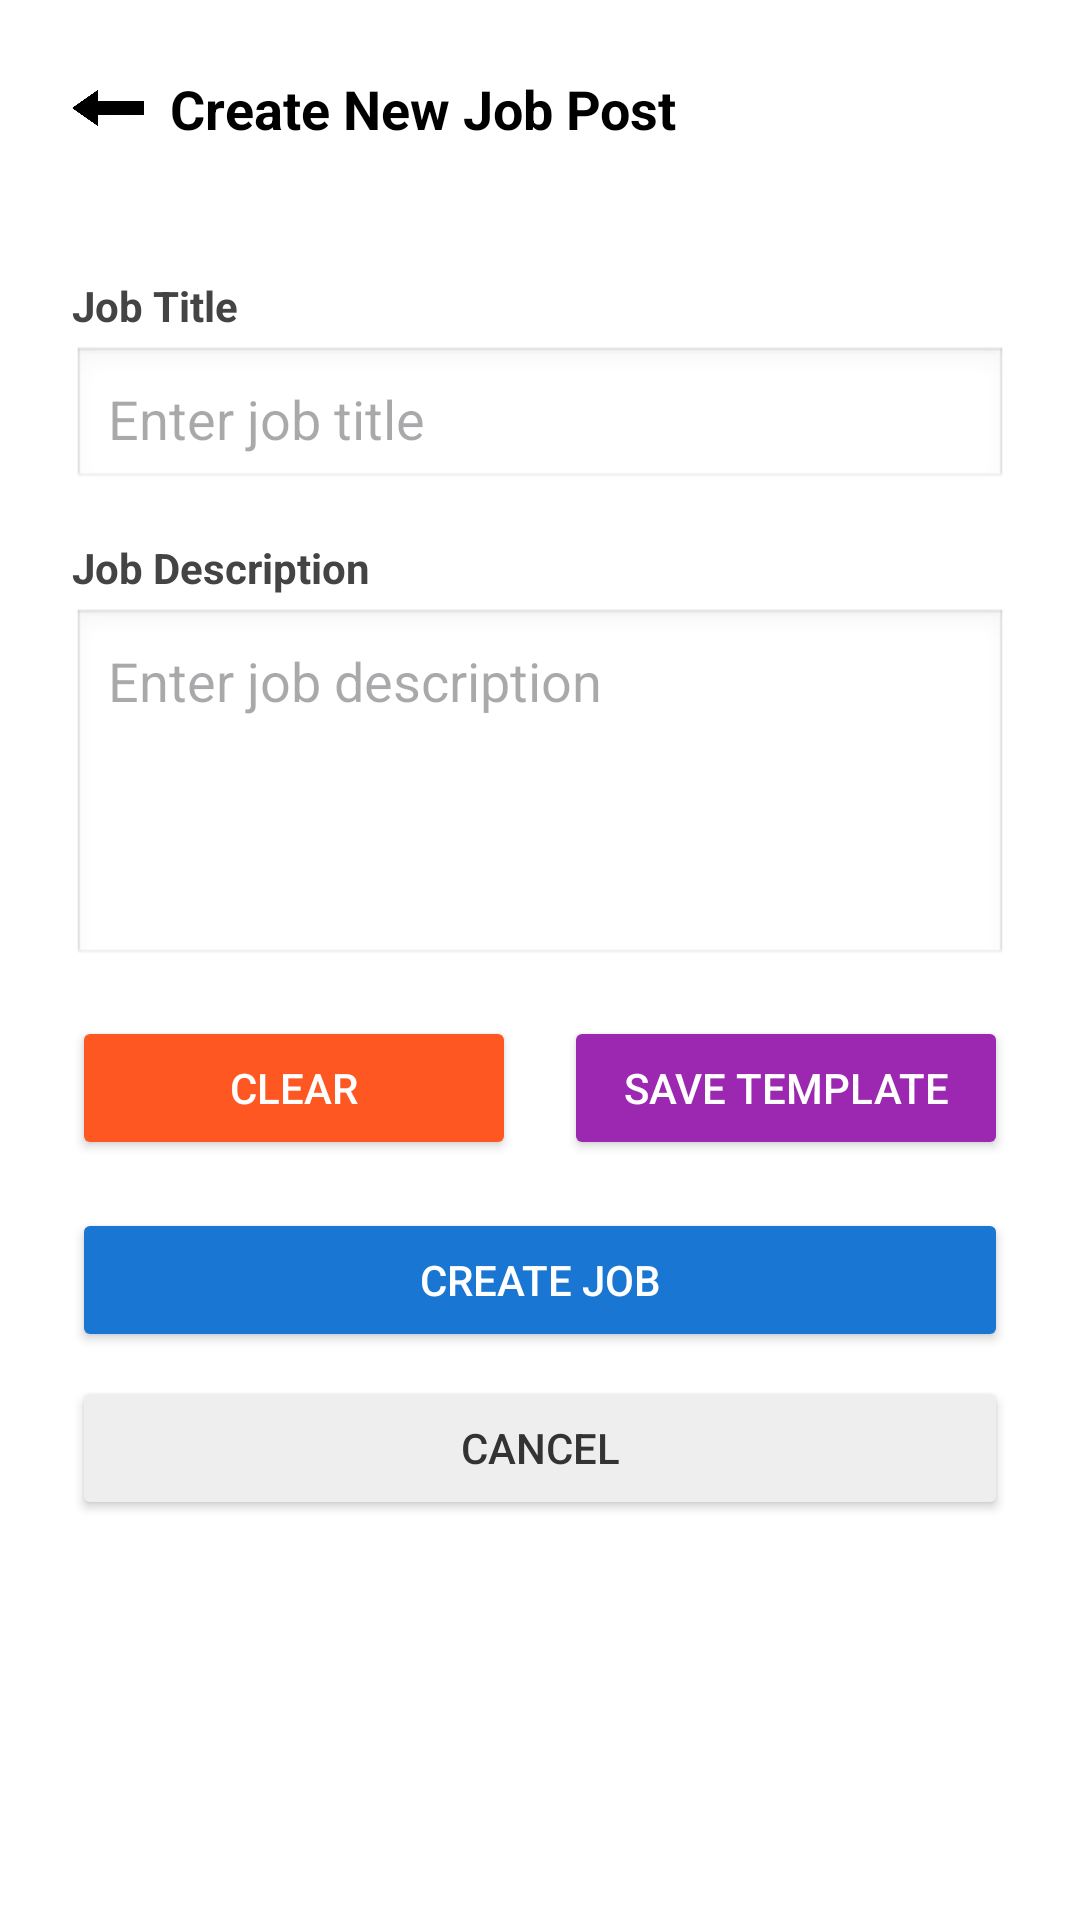

Icons on this 1080x1920 Android screen, each with its box as BBox(x1, y1, x2, y2):
Back: BBox(73, 90, 144, 126)
